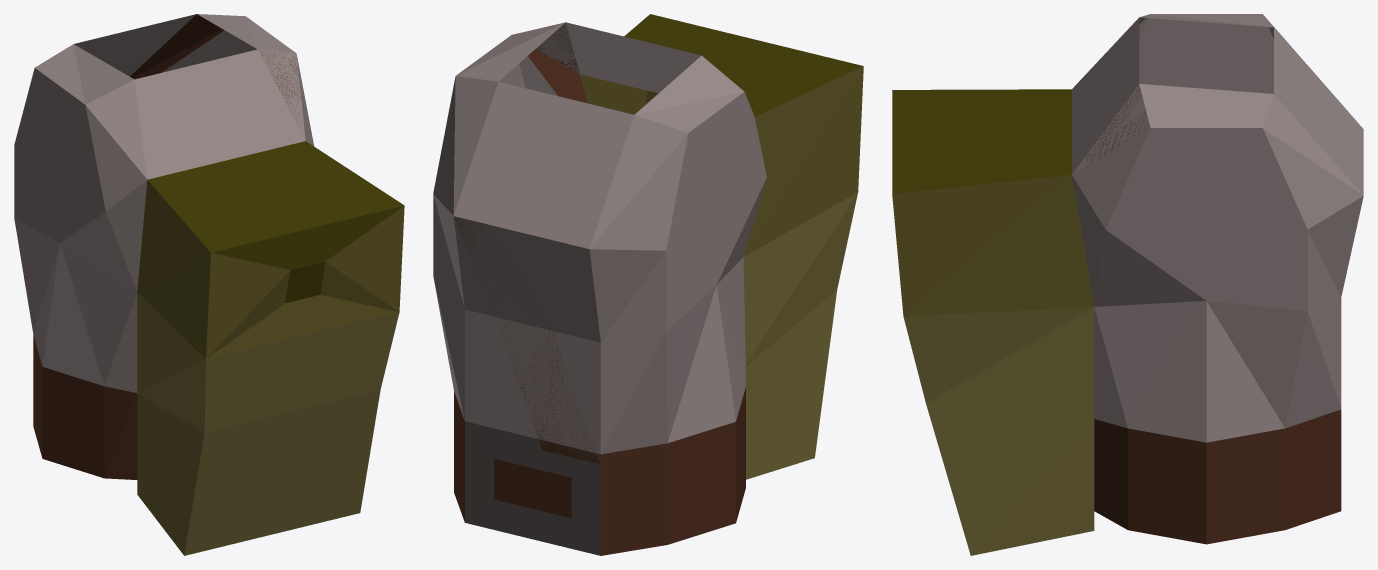
The model's file is npc_world_nilhoof_1.obj.
3 views of the same model, side by side, from view 1: azimuth 30°, elevation 25°; view 2: azimuth 150°, elevation 25°; view 3: azimuth 270°, elevation 25° (orthographic). The views are drawn at different scales.
Size of the model in its own units: 0.2188 by 0.3516 by 0.3281.
